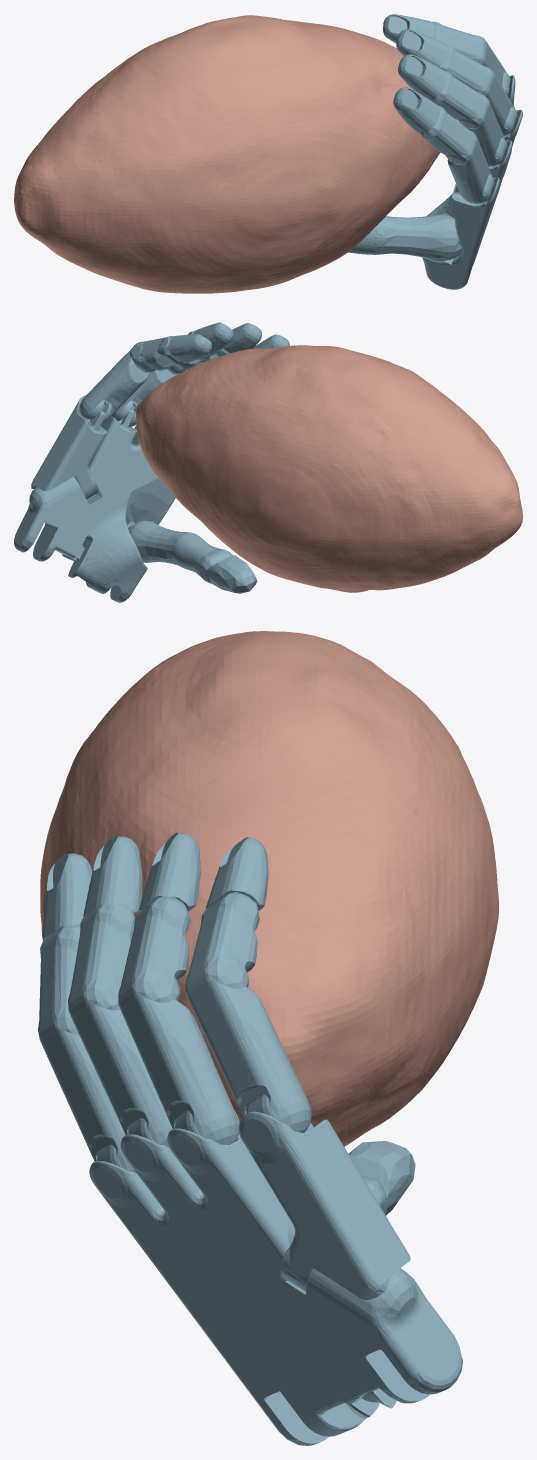
The model's file is 9_joint.glb.
The picture shows the model from 3 angles, top to bottom: view 1: azimuth 30°, elevation 25°; view 2: azimuth 150°, elevation 25°; view 3: azimuth 270°, elevation 25°; orthographic projection. The views are drawn at different scales.
Visible parts, largest first — view 1: world; view 2: world; view 3: world.
Boxes of the visible parts, <box> form: world: <box>14,14,522,293</box>; world: <box>14,322,522,602</box>; world: <box>38,631,498,1445</box>.
Size of the model in its own units: 2.17 by 1.28 by 0.9296.
